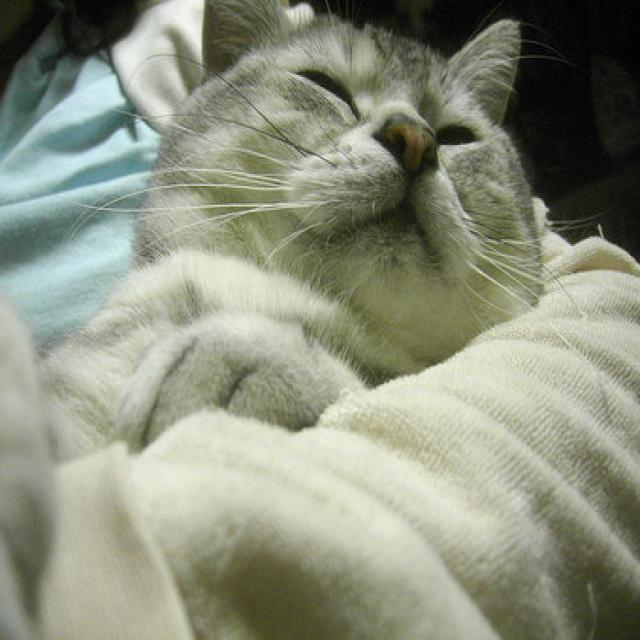cat: (32, 1, 546, 465)
